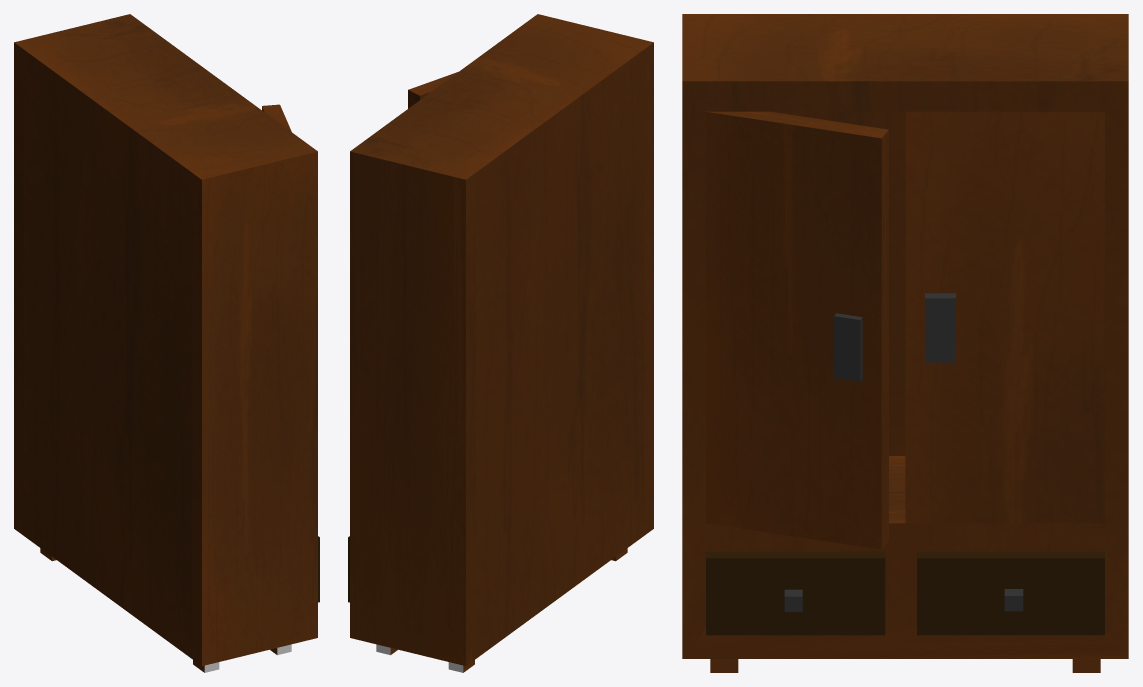
File: Closet1.fbx
3 views of the same model, side by side, from view 1: azimuth 30°, elevation 25°; view 2: azimuth 150°, elevation 25°; view 3: azimuth 270°, elevation 25° (orthographic). The views are drawn at different scales.
Parts seen in each view (by area): view 1: Cube; view 2: Cube; view 3: Cube.
Part boxes in pixels (x1,y1,x2,y2): Cube: (14,14,319,672); Cube: (348,14,653,672); Cube: (682,14,1128,672).
Size of the model in its own units: 69.73 by 208 by 140.
